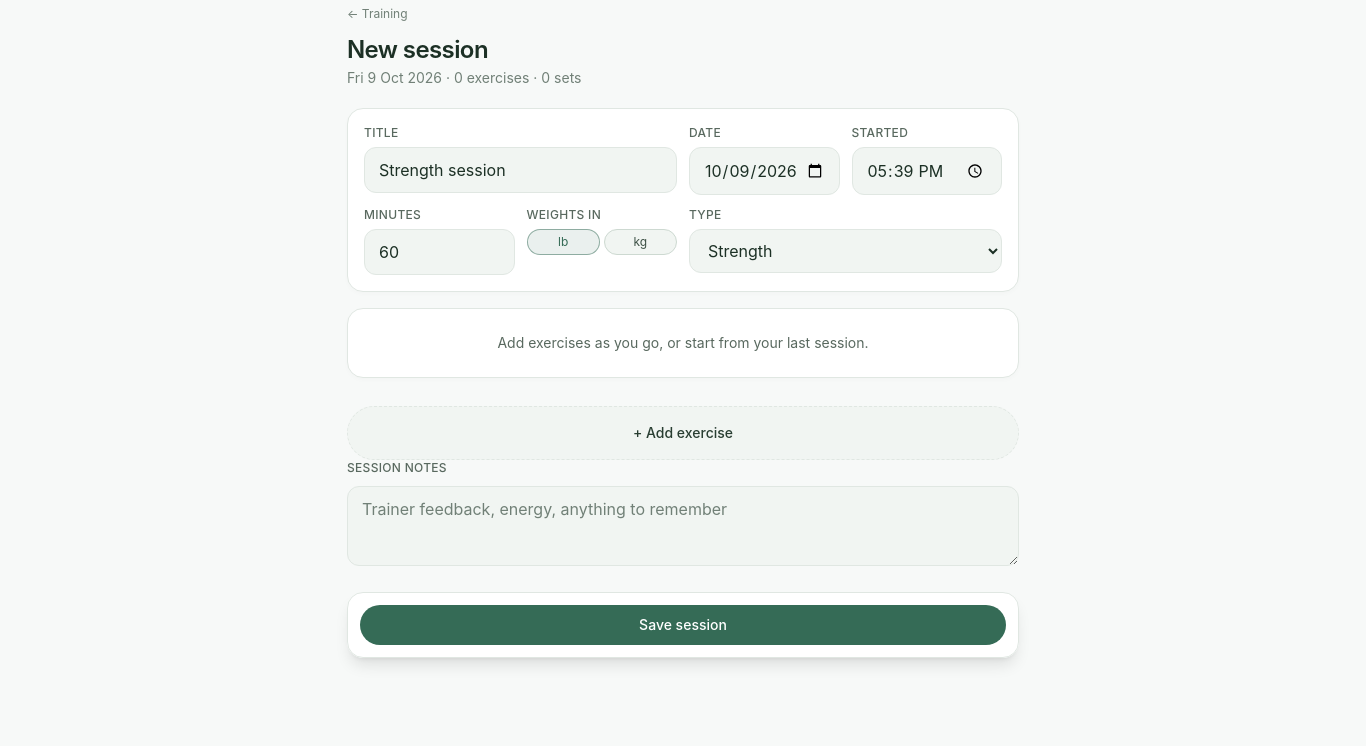
Test: a strength session is built from the catalog and saved with its sets
This screenshot has width=1366, height=746.
Replace the text in the field labelled "Title" with "Trainer session" at (520, 170), box top-left (364, 147), bottom-right (677, 193)
Click the button "+ Add exercise" at (683, 433), box top-left (347, 406), bottom-right (1019, 460)
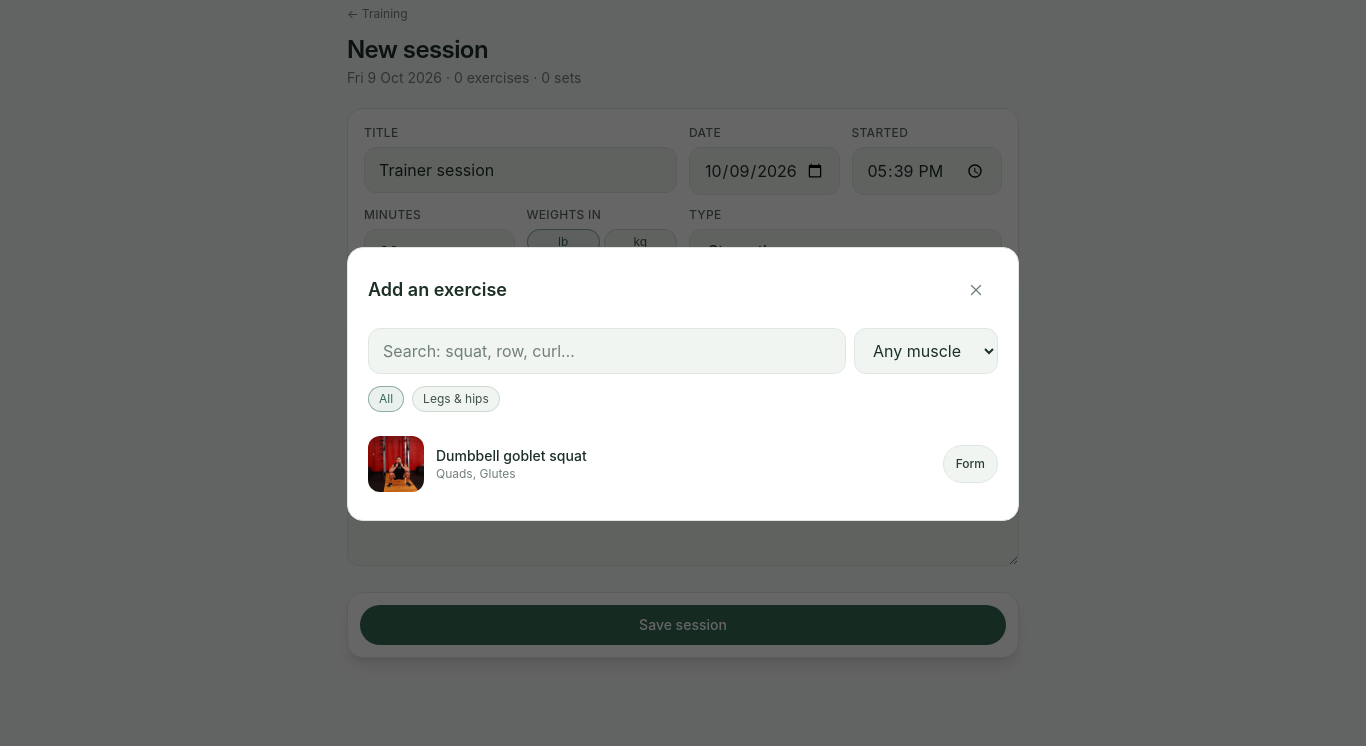
Click the button "Dumbbell goblet squat Quads, Glutes" at (396, 464), box top-left (368, 436), bottom-right (931, 492)
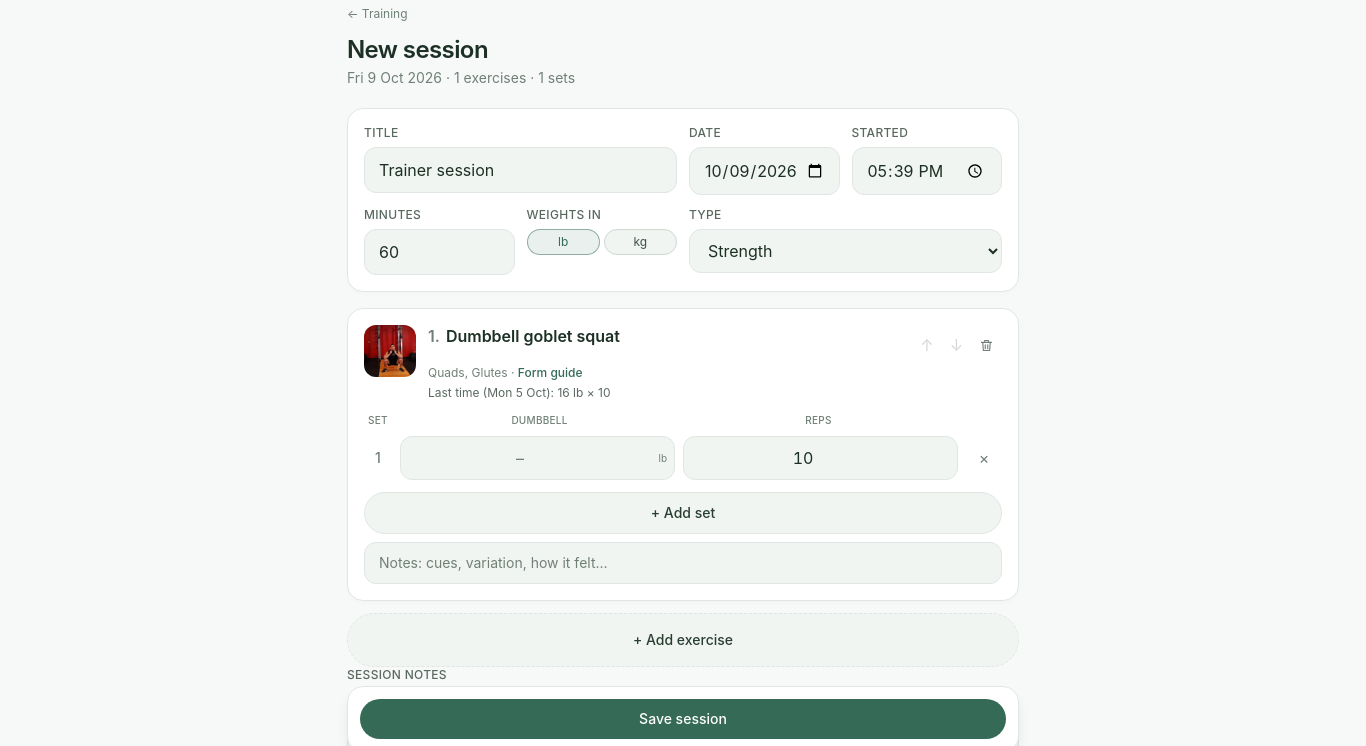
Expected: the text "Last time (Mon 5 Oct): 16 lb × 10" is shown, top-left (428, 385), bottom-right (610, 400)
Expected: the text "Dumbbell" is shown, top-left (511, 414), bottom-right (568, 426)
Type "16" into the number field named "Set 1 weight (lb)" at (538, 458), box top-left (400, 436), bottom-right (675, 480)
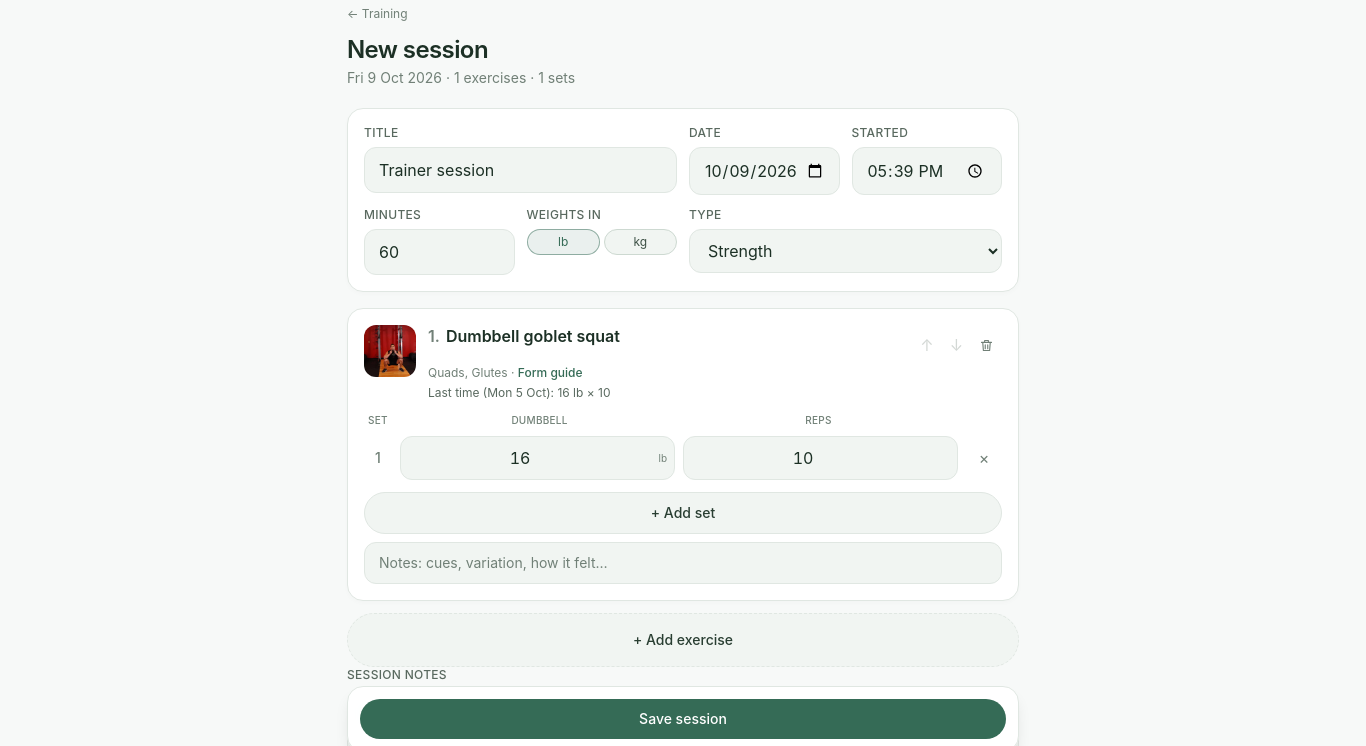
Click the button "+ Add set" at (683, 513), box top-left (364, 492), bottom-right (1002, 534)
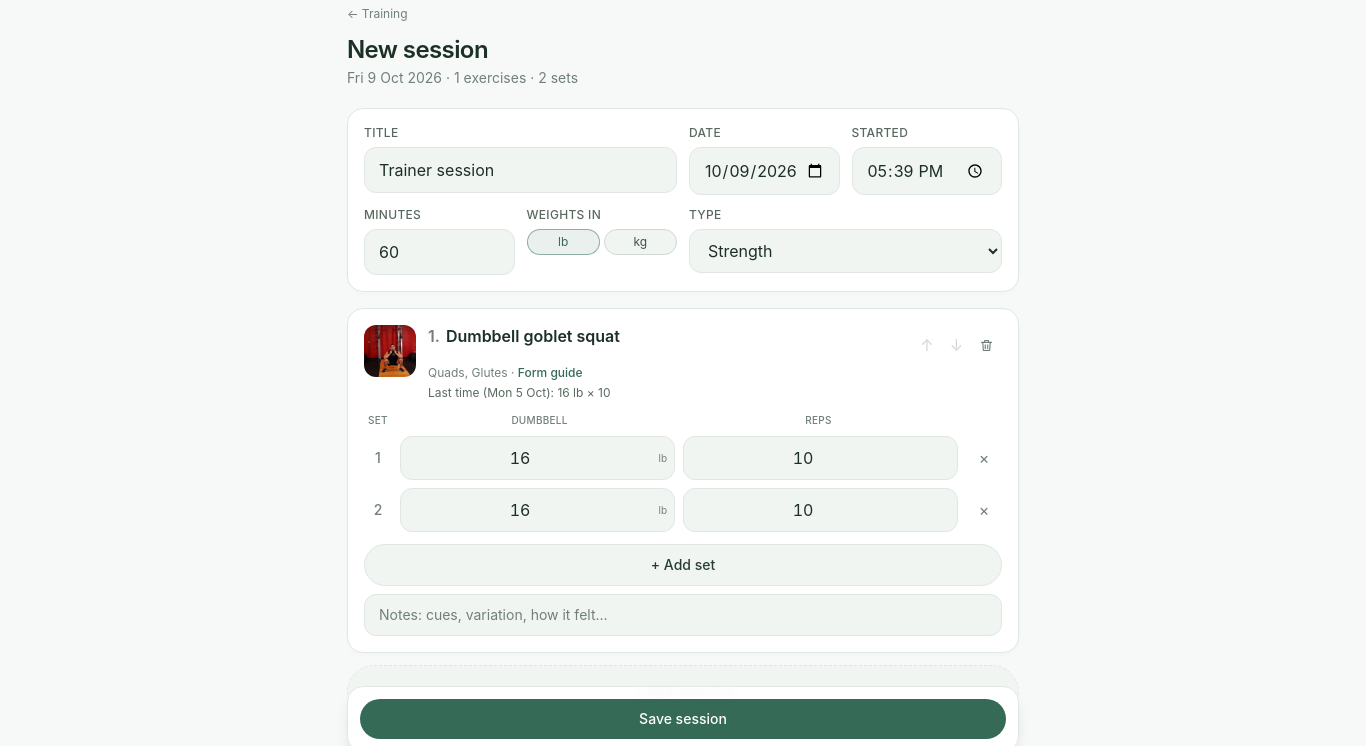
Replace the text in the number field named "Set 2 weight (lb)" with "22" at (538, 510), box top-left (400, 488), bottom-right (675, 532)
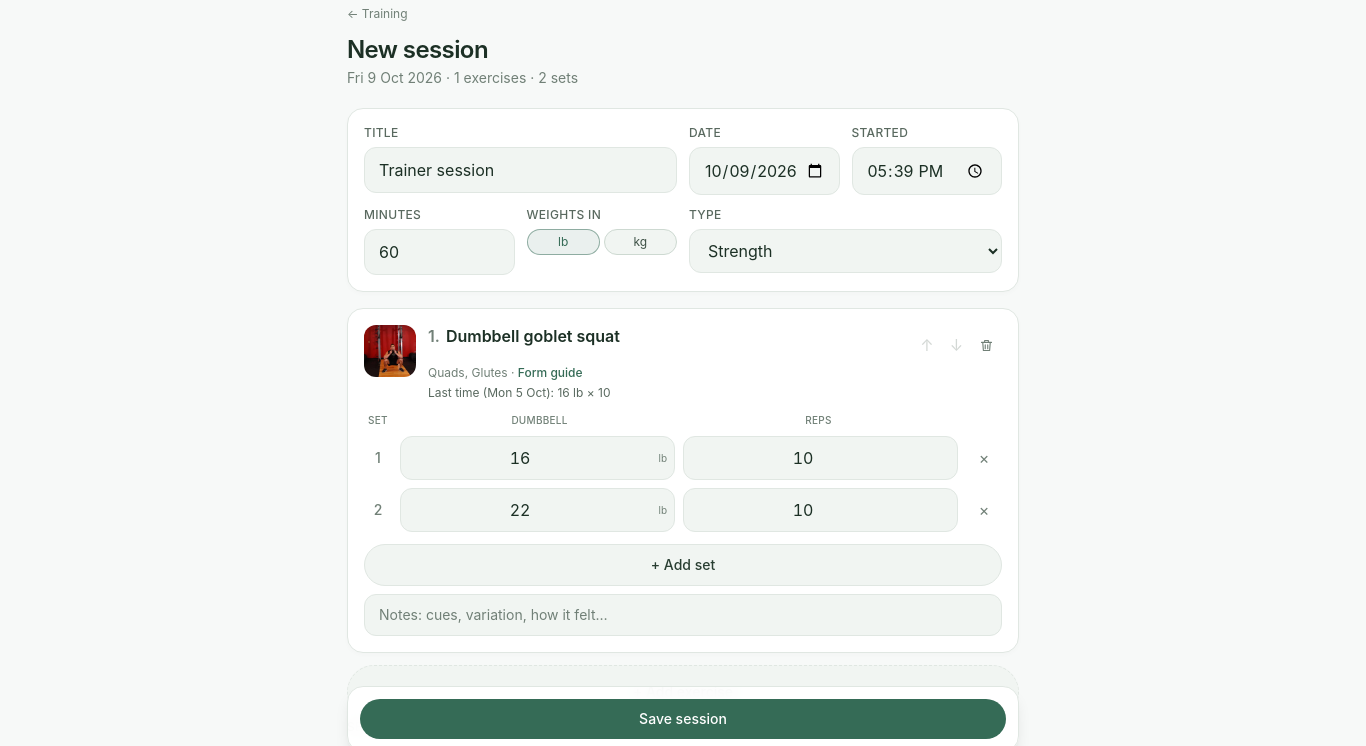
Click the button "Save session" at (683, 719), box top-left (360, 699), bottom-right (1006, 739)
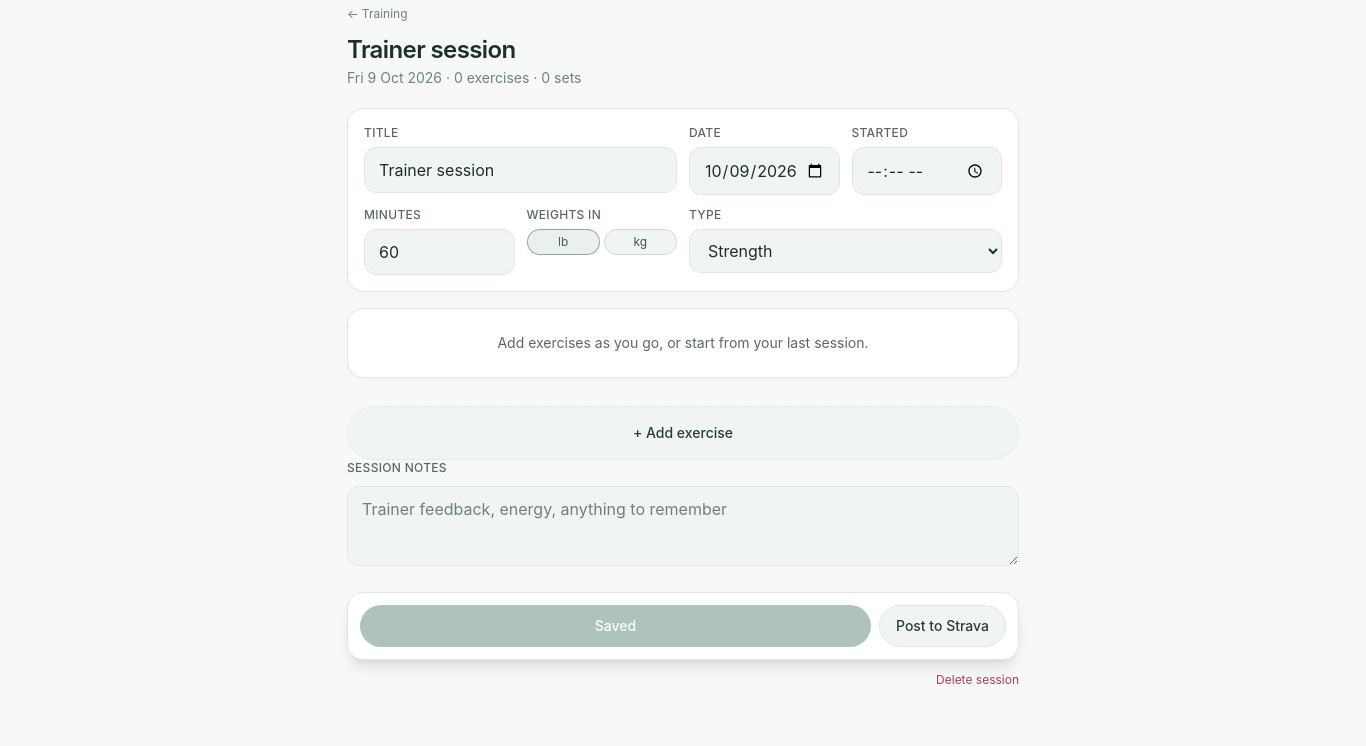
Expected: the button "Post to Strava" is shown, top-left (879, 605), bottom-right (1006, 647)
